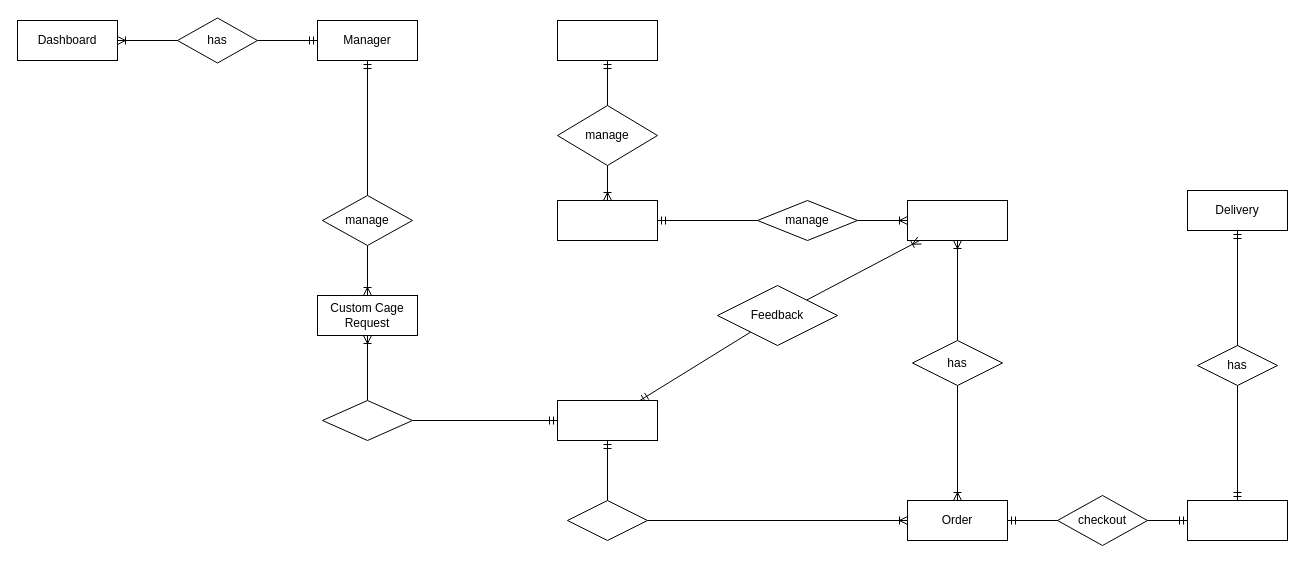
Some shapes in this 1305 by 563 pixel diagram are drawn without their labels. Each missing label, with the centre of its shape:
Admin: the point at 607,40
book: the point at 367,420
Customer: the point at 607,420
make: the point at 607,520
Payment: the point at 1237,520
Product: the point at 957,220
Staff: the point at 607,220
